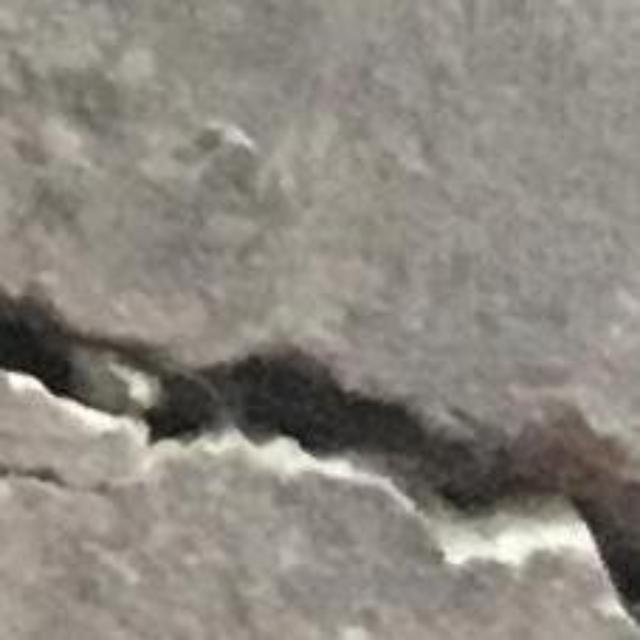crack: (0, 291, 639, 620)
